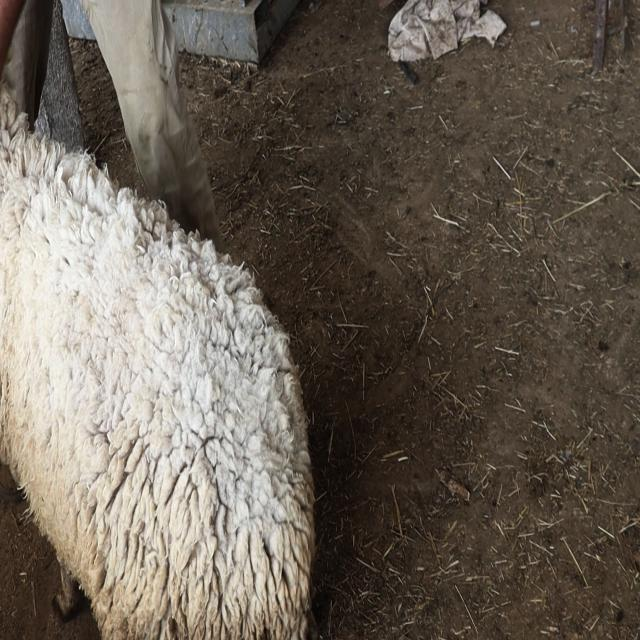Score_4: (0, 82, 315, 639)
